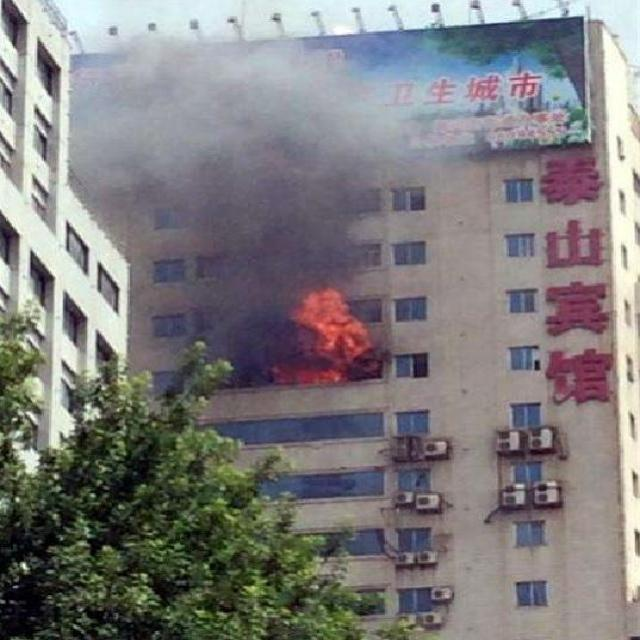Fire: (288, 288, 376, 386)
Smoke: (71, 32, 432, 380)
